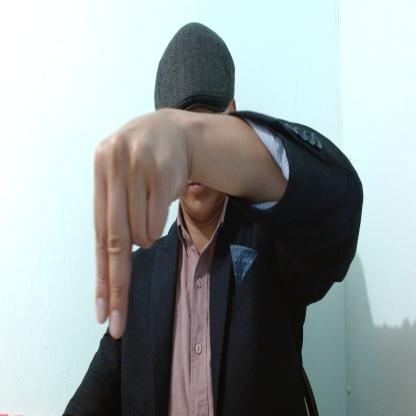N: (93, 107, 194, 339)
